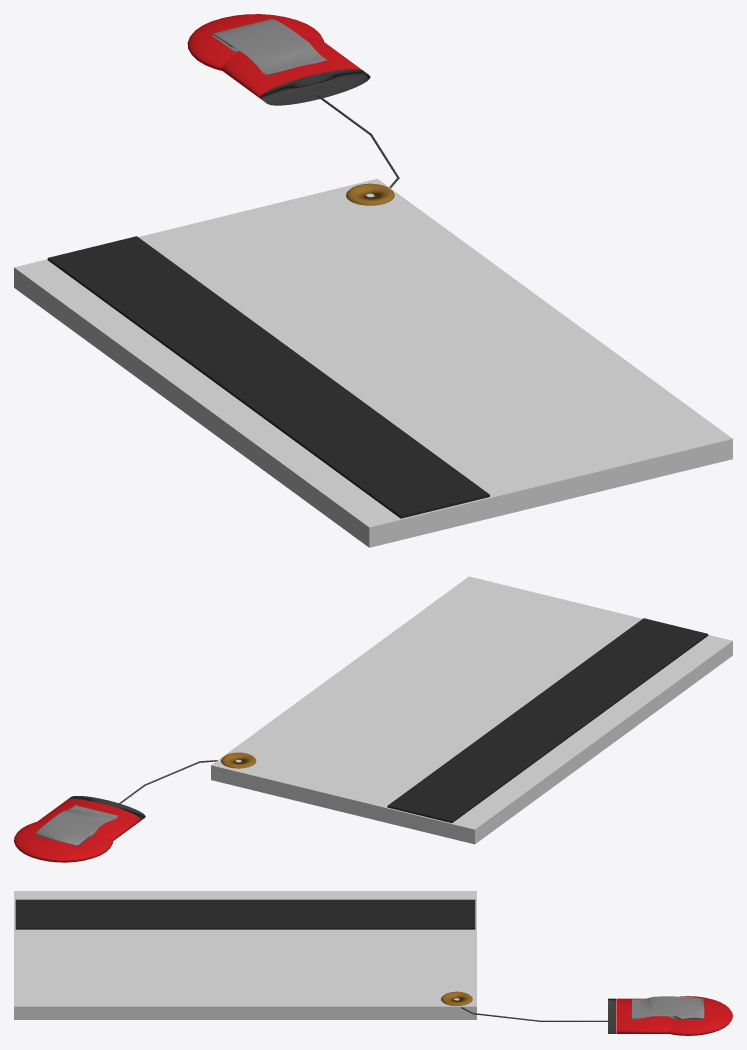
The model's file is swipercard.fbx.
3 renders of one model, top to bottom at view 1: azimuth 30°, elevation 25°; view 2: azimuth 150°, elevation 25°; view 3: azimuth 270°, elevation 25°, orthographic. The views are drawn at different scales.
Visible parts, largest first — view 1: Cube, Cube.001, Torus; view 2: Cube, Cube.001; view 3: Cube, Cube.001, Torus.
Boxes of the visible parts, x1=… form: Cube: x1=14, y1=14, x2=732, y2=547; Cube.001: x1=47, y1=236, x2=489, y2=518; Torus: x1=346, y1=183, x2=394, y2=205; Cube: x1=14, y1=576, x2=732, y2=862; Cube.001: x1=387, y1=618, x2=708, y2=822; Cube: x1=14, y1=891, x2=732, y2=1035; Cube.001: x1=15, y1=899, x2=475, y2=929; Torus: x1=441, y1=991, x2=472, y2=1005.
Bounding box in the file's own units: 151 × 12.49 × 311.
